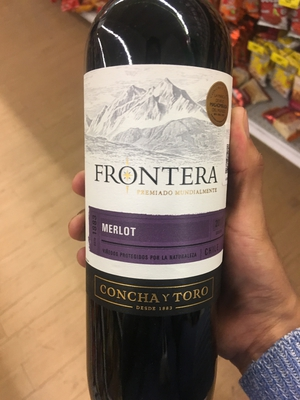frontera merlot: (65, 15, 248, 377)
